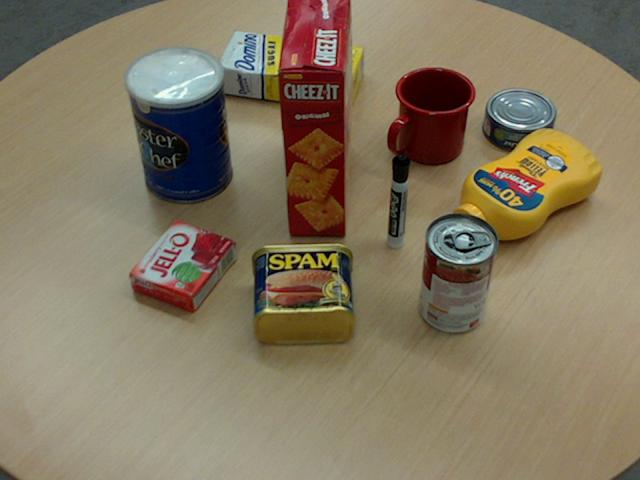cracker_box: (277, 0, 354, 235)
gelatin_box: (128, 218, 235, 311)
large_marker: (388, 154, 409, 248)
master_chef_can: (125, 46, 231, 203)
mug: (387, 66, 475, 164)
mustard_bottle: (446, 128, 600, 241)
potted_meat_can: (250, 241, 353, 342)
sugar_box: (215, 30, 363, 109)
tomato_soup_can: (419, 212, 497, 332)
tuna_fish_can: (481, 88, 554, 151)
